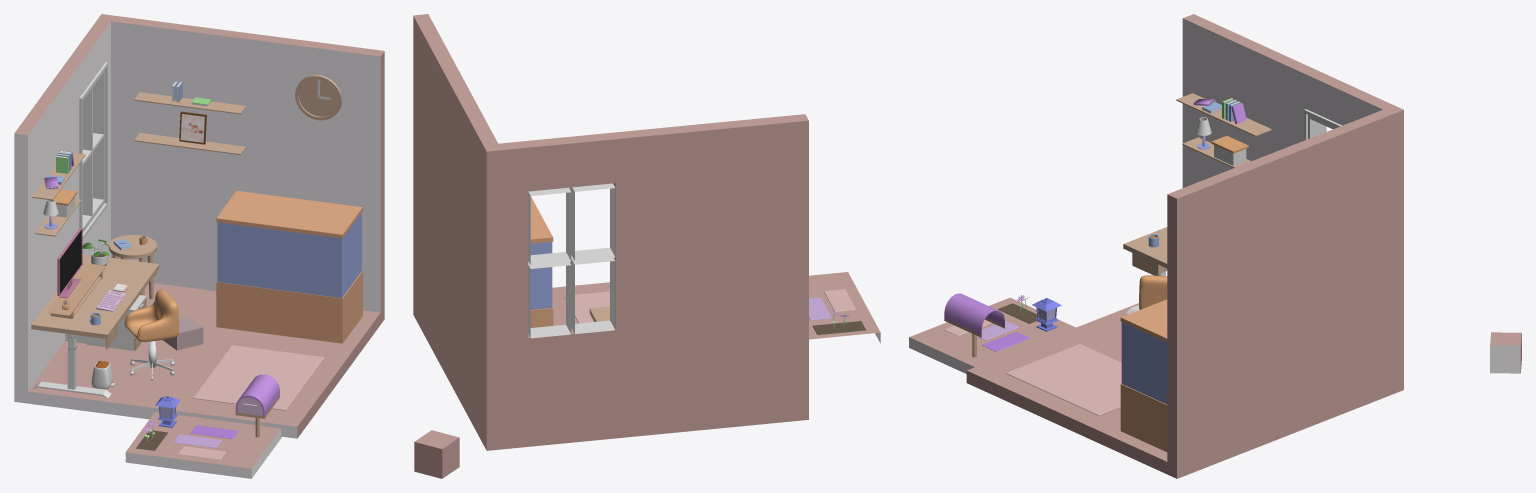
File: Fiamma.glb
3 renders of one model, left to right at view 1: azimuth 30°, elevation 25°; view 2: azimuth 150°, elevation 25°; view 3: azimuth 270°, elevation 25°, orthographic. The views are drawn at different scales.
Parts seen in each view (by area): view 1: Body, Aquarium, Desks, Floor Items, Mini Floor, Shelves, Table Stuff, Chair, Clock, Mailbox, Computer, Cube (+5 smaller); view 2: Body, Mini Floor, Aquarium, Cube.001, Floor Items, Dirt, FloorThird; view 3: Body, Aquarium, Floor Items, Mini Floor, Shelves, Mailbox, Desks, Cube.001, Chair, Lamp.
Part boxes in pixels (x1=…): Body: x1=14, y1=14, x2=384, y2=438; Aquarium: x1=216, y1=190, x2=362, y2=343; Desks: x1=31, y1=235, x2=159, y2=398; Floor Items: x1=87, y1=295, x2=324, y2=410; Mini Floor: x1=125, y1=412, x2=281, y2=478; Shelves: x1=32, y1=81, x2=246, y2=236; Table Stuff: x1=48, y1=236, x2=147, y2=325; Chair: x1=124, y1=289, x2=178, y2=341; Clock: x1=295, y1=75, x2=342, y2=120; Mailbox: x1=235, y1=374, x2=279, y2=437; Computer: x1=57, y1=227, x2=82, y2=298; Cube: x1=163, y1=316, x2=203, y2=350; Body: x1=413, y1=14, x2=808, y2=450; Mini Floor: x1=809, y1=272, x2=880, y2=343; Aquarium: x1=530, y1=196, x2=553, y2=327; Cube.001: x1=414, y1=430, x2=459, y2=478; Floor Items: x1=564, y1=291, x2=609, y2=323; Dirt: x1=812, y1=321, x2=865, y2=334; FloorThird: x1=824, y1=289, x2=856, y2=311; Body: x1=966, y1=14, x2=1403, y2=478; Aquarium: x1=1120, y1=299, x2=1167, y2=451; Floor Items: x1=1006, y1=344, x2=1121, y2=415; Mini Floor: x1=909, y1=297, x2=1075, y2=373; Shelves: x1=1176, y1=93, x2=1271, y2=167; Mailbox: x1=944, y1=293, x2=1004, y2=357; Desks: x1=1123, y1=227, x2=1167, y2=313; Cube.001: x1=1490, y1=332, x2=1521, y2=373; Chair: x1=1139, y1=275, x2=1167, y2=309; Lamp: x1=1032, y1=298, x2=1061, y2=331.
Bounding box in the file's own units: 27.58 × 19.65 × 38.64.
Materials: 43 (1 with a texture image).
